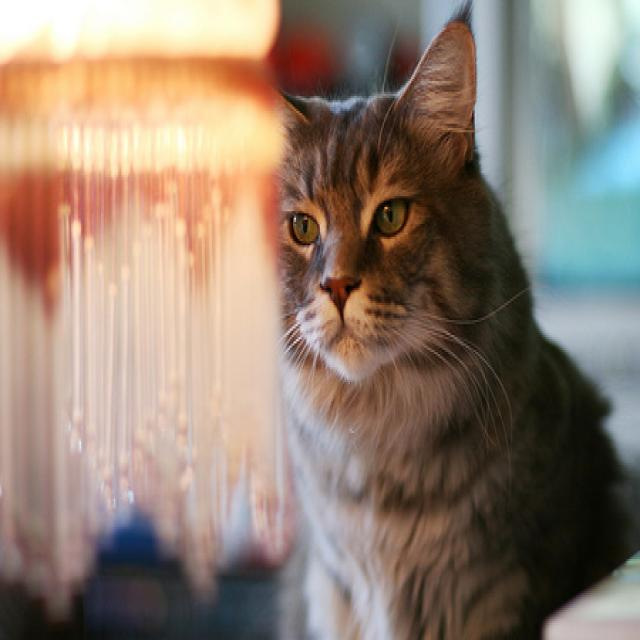Maine Coon: (248, 4, 627, 640)
